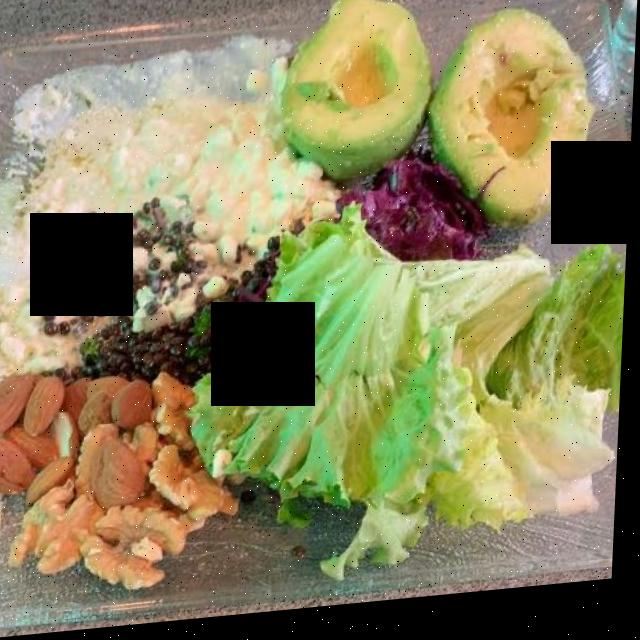almonds: (0, 376, 152, 486)
avocado: (294, 0, 601, 264)
cottage-cheese: (168, 112, 353, 251)
lentils: (60, 221, 267, 377)
red-cabbage: (328, 158, 509, 272)
salad-leaf-salad-green: (181, 221, 618, 517)
walnut: (26, 383, 246, 598)
